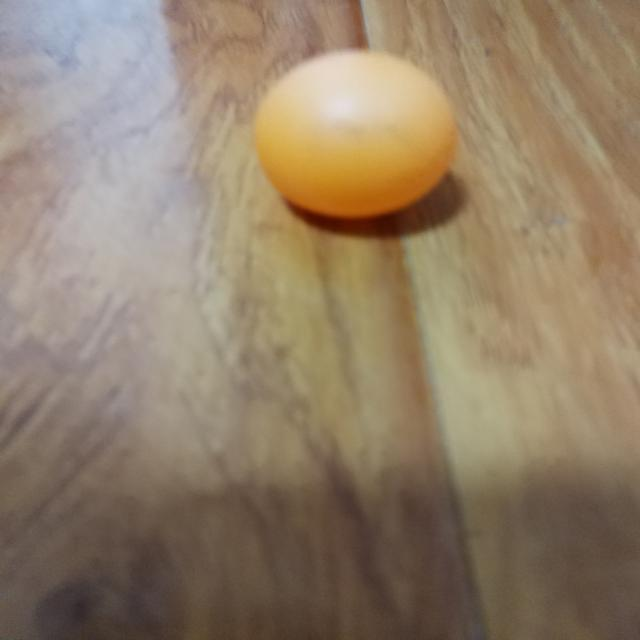oball: (254, 50, 456, 218)
